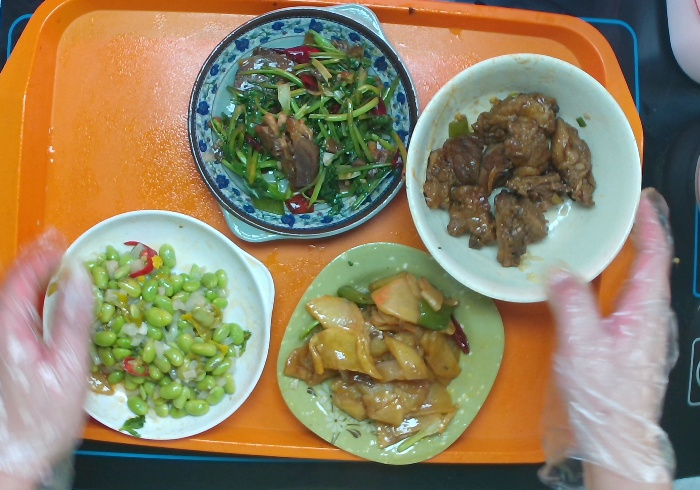NLDX-Bai_Se_Shuang_Er_Die: (36, 206, 279, 445)
NLDX-Bai_Se_Yuan_Wan: (400, 51, 646, 308)
NLDX-Lv_Hua_Fang_Die: (273, 238, 510, 470)
NLDX-Qing_Hua_Shuang_Er_Die: (184, 1, 423, 245)
